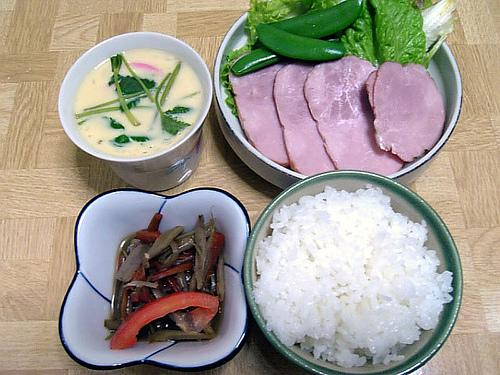rice: (251, 187, 451, 368)
